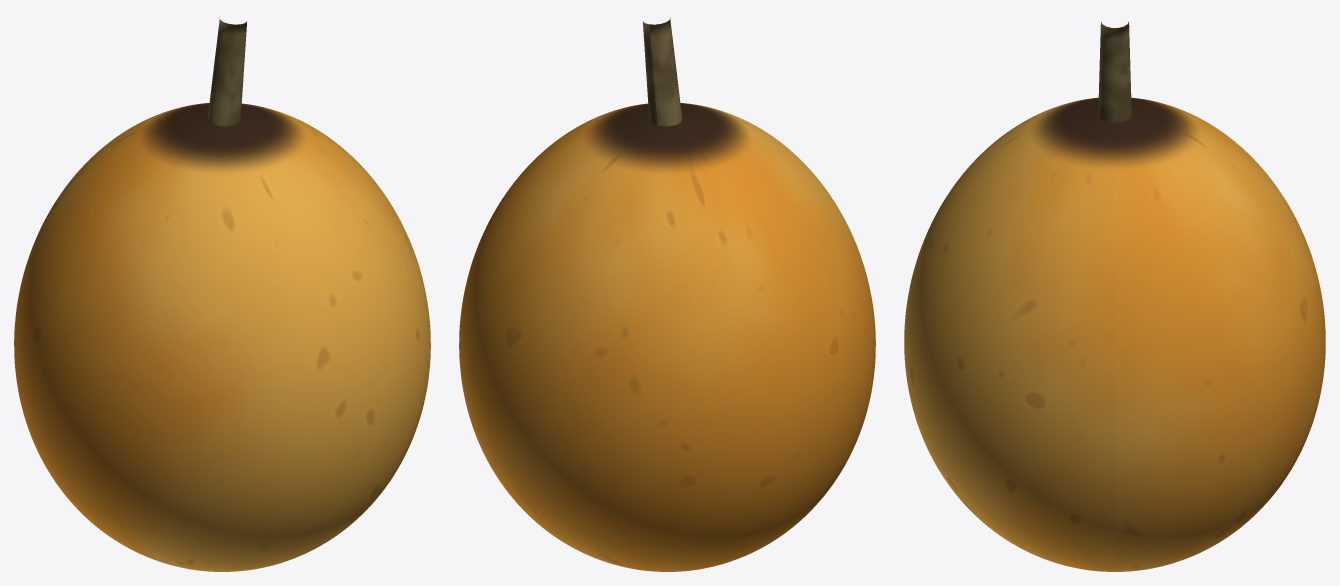
File: bibasse.glb
3 renders of one model, left to right at view 1: azimuth 30°, elevation 25°; view 2: azimuth 150°, elevation 25°; view 3: azimuth 270°, elevation 25°, orthographic.
Parts seen in each view (by area): view 1: entier_peau, moitie_A_peau, moitie_B_peau, entier_extra5; view 2: entier_peau, moitie_B_peau, moitie_A_peau, entier_extra5; view 3: entier_peau, moitie_A_peau, moitie_B_peau, entier_extra5.
Part boxes in pixels (x1,y1,x2,y2): entier_peau: (14, 103, 429, 571); moitie_A_peau: (42, 114, 430, 571); moitie_B_peau: (14, 103, 321, 527); entier_extra5: (207, 18, 247, 126); entier_peau: (459, 104, 875, 571); moitie_B_peau: (459, 114, 847, 571); moitie_A_peau: (568, 103, 875, 527); entier_extra5: (642, 18, 682, 126); entier_peau: (904, 98, 1325, 571); moitie_A_peau: (928, 97, 1114, 571); moitie_B_peau: (1115, 97, 1301, 571); entier_extra5: (1098, 21, 1131, 122).
Size of the model in its own units: 0.039 by 0.0551 by 0.039.
Materials: 4 (4 with a texture image).
